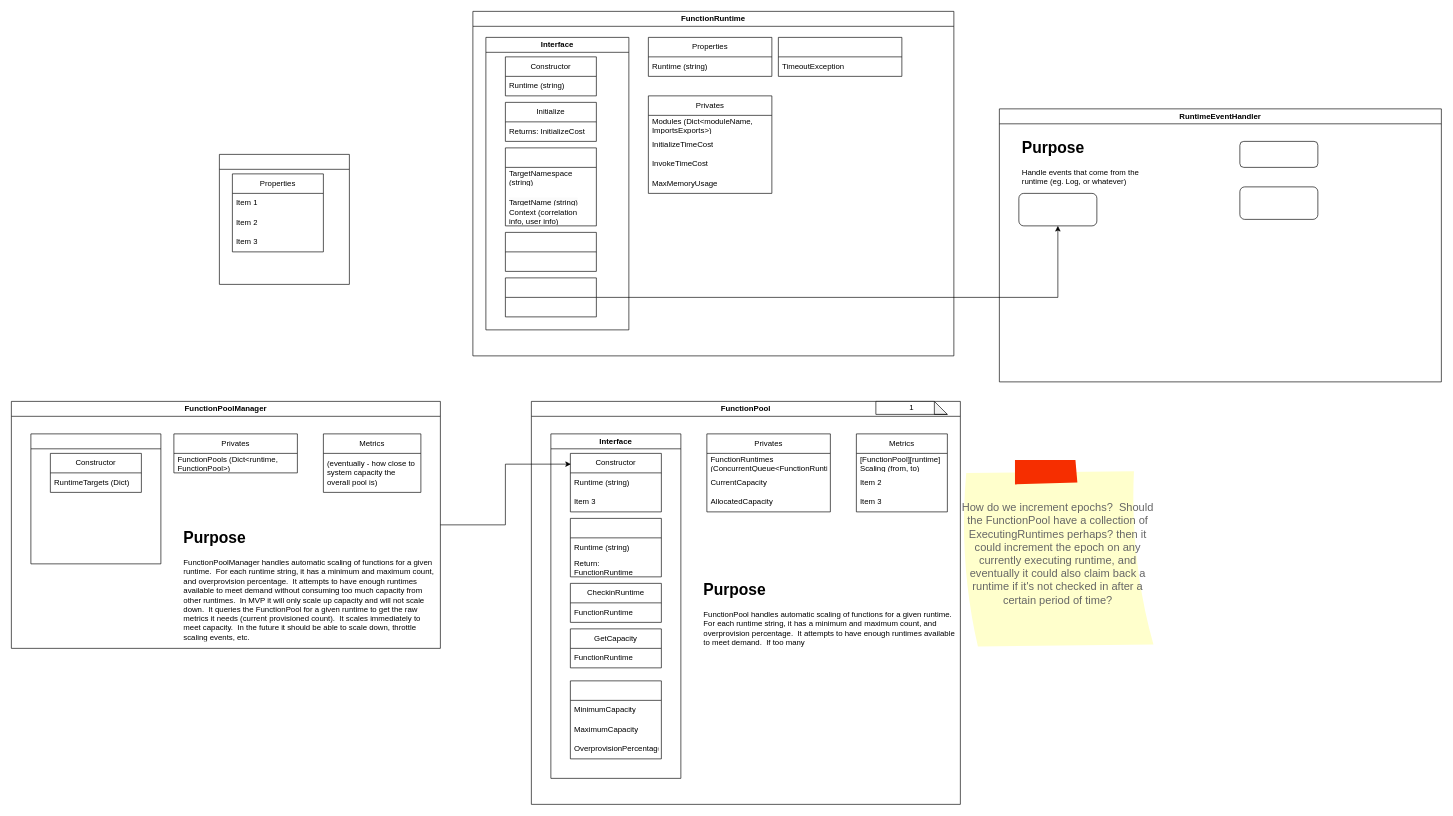
The diagram is 1453 pixels wide and 816 high, and some of its shapes have lost their labels. Each missing label, with the box of its shape:
CheckoutRuntime: (570, 518, 661, 577)
Exceptions: (778, 37, 902, 76)
FunctionConfig: (219, 154, 349, 284)
GetUser: (1239, 186, 1318, 219)
HandleRequest(): (1018, 193, 1097, 226)
HOST: invoke_json: (505, 277, 596, 317)
Invoke: (505, 147, 596, 226)
Log: (1239, 141, 1318, 167)
Methods: (30, 433, 161, 564)
Reset: (505, 232, 596, 271)
ScaleCapacity: (570, 680, 661, 759)
